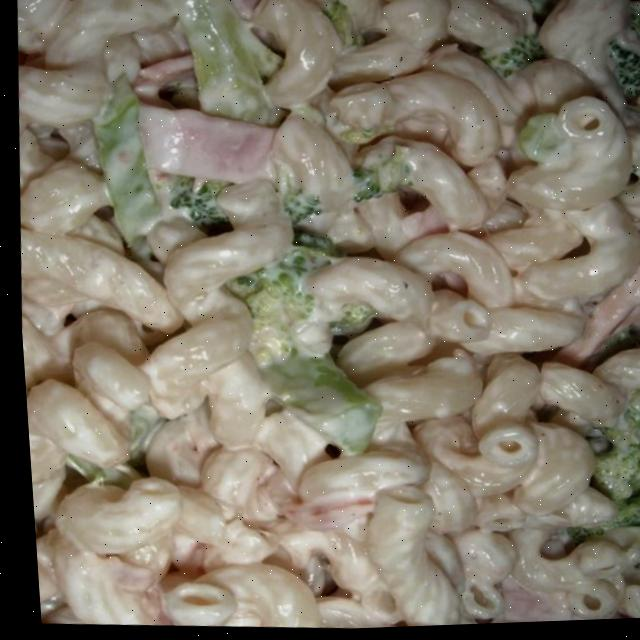蔬菜料理: (134, 0, 640, 419)
